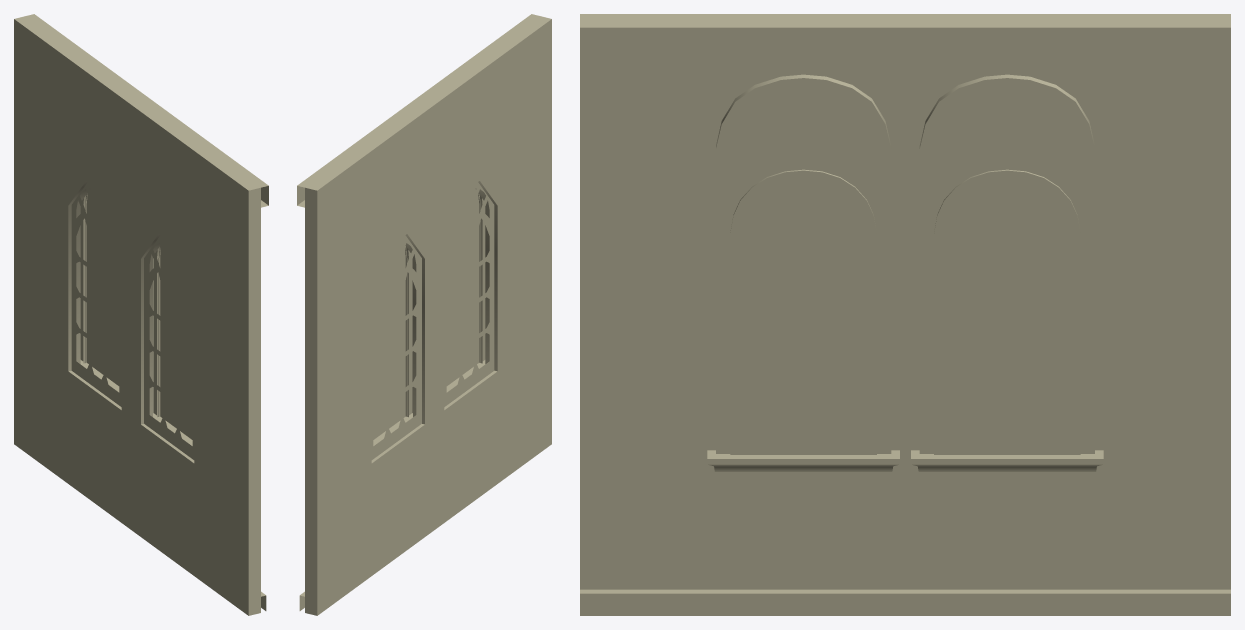
The model's file is Homeworld_Interior_Md_Room_Wall_02_Vo.fbx.
The picture shows the model from 3 angles, left to right: view 1: azimuth 30°, elevation 25°; view 2: azimuth 150°, elevation 25°; view 3: azimuth 270°, elevation 25°; orthographic projection. The views are drawn at different scales.
Visible parts, largest first — view 1: Homeworld_Interior_Md_Room_Wall_02_Vo; view 2: Homeworld_Interior_Md_Room_Wall_02_Vo; view 3: Homeworld_Interior_Md_Room_Wall_02_Vo.
Part boxes in pixels (box(x1,y1,x2,y2)): Homeworld_Interior_Md_Room_Wall_02_Vo: box(14, 14, 268, 615); Homeworld_Interior_Md_Room_Wall_02_Vo: box(297, 14, 551, 615); Homeworld_Interior_Md_Room_Wall_02_Vo: box(580, 14, 1230, 615).
Size of the model in its own units: 0.3058 by 5 by 5.
